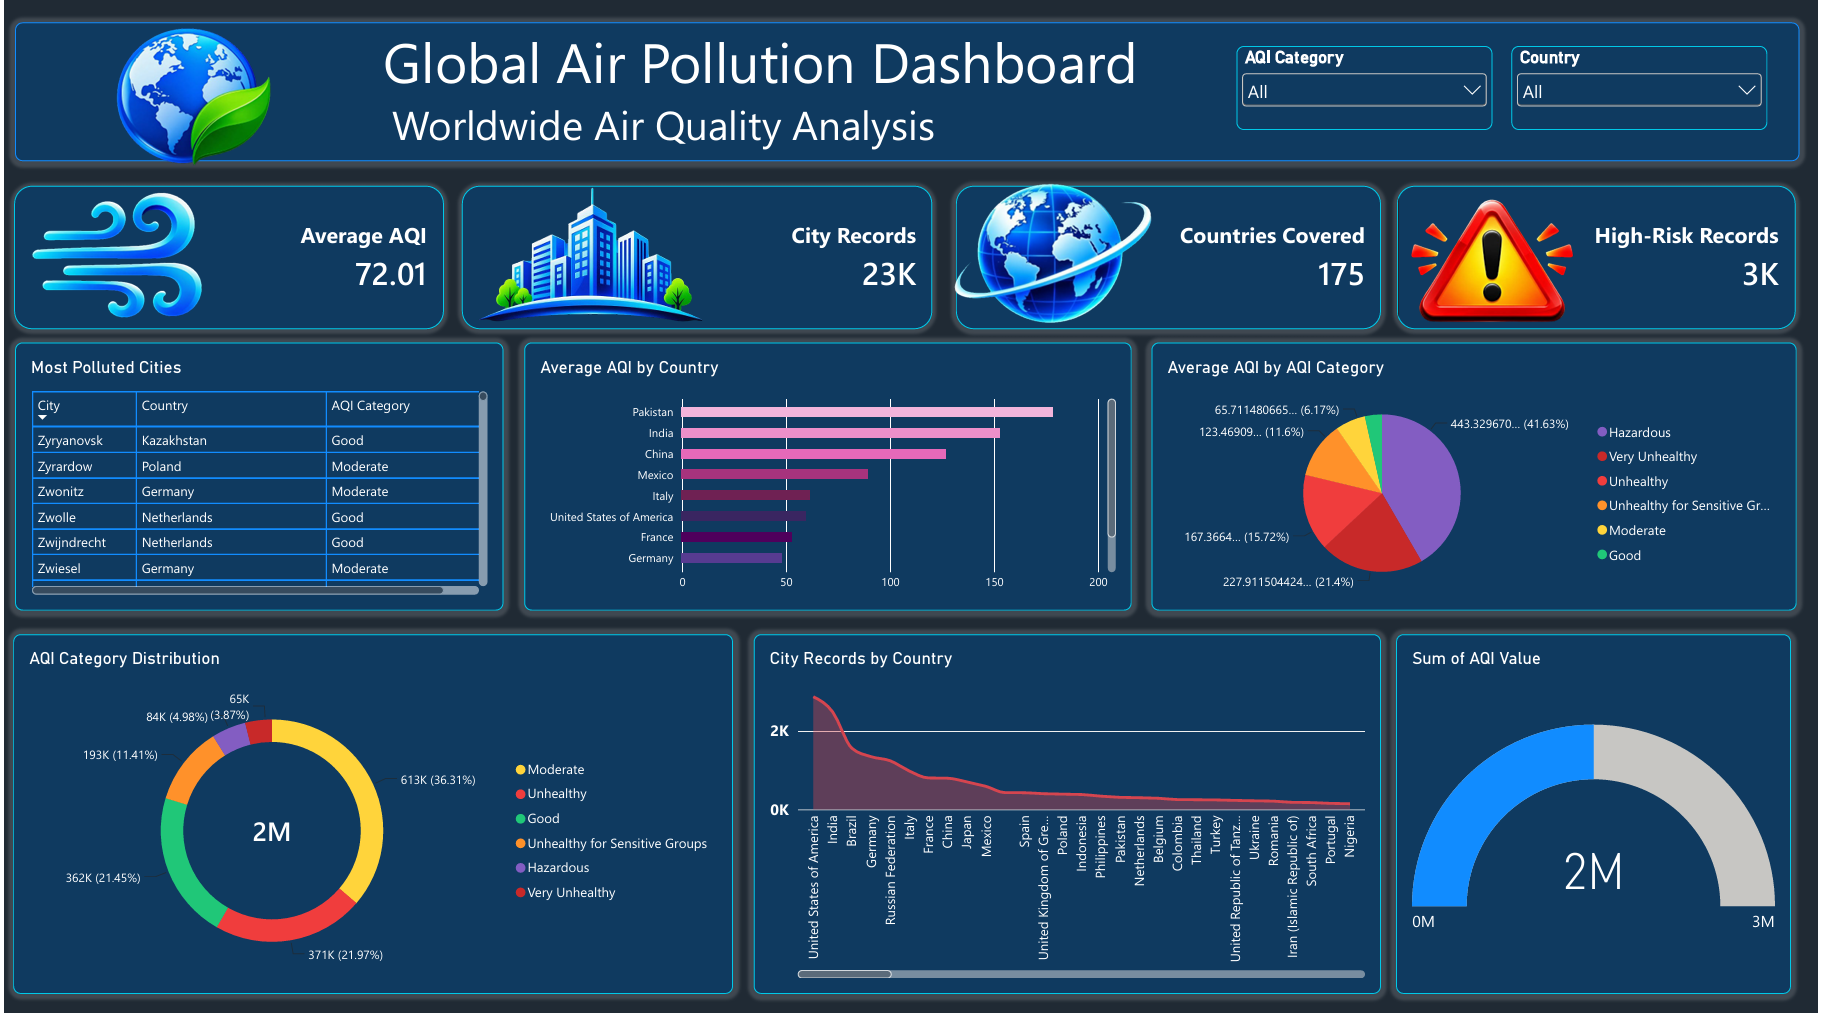

Layout of this report page (visuals, bound fields, positions):
{"tool":"powerbi","page":{"name":"Page 1","canvas":[1920,1080],"ordinal":0},"visuals":[{"type":"textbox","box":[10.7,23.2,1889.3,146.4],"z":0},{"type":"cardVisual","fields":{"Data":["global_air_pollution_dataset.Average AQI"]},"box":[10.3,195.5,454.9,152.3],"z":1000},{"type":"cardVisual","fields":{"Data":["global_air_pollution_dataset.City Records"]},"box":[483.7,195.5,498.1,152.3],"z":2000},{"type":"cardVisual","fields":{"Data":["global_air_pollution_dataset.Countries Covered"]},"box":[1006.5,195.5,450.8,152.3],"z":3000},{"type":"cardVisual","fields":{"Data":["global_air_pollution_dataset.High-Risk Records"]},"box":[1473.8,195.5,422,152.3],"z":4000},{"type":"slicer","fields":{"Values":["global_air_pollution_dataset.Country"]},"box":[1594.6,48.2,271.4,88.7],"z":5000},{"type":"slicer","fields":{"Values":["global_air_pollution_dataset.AQI Category"]},"box":[1303.6,48.2,271.7,88.5],"z":6000},{"type":"donutChart","title":"AQI Category Distribution","fields":{"Category":["global_air_pollution_dataset.AQI Category"],"Y":["Sum(global_air_pollution_dataset.AQI Value)"]},"box":[8.9,671.4,762.5,380.4],"z":7000},{"type":"pieChart","fields":{"Category":["global_air_pollution_dataset.AQI Category"],"Y":["global_air_pollution_dataset.Average AQI"]},"box":[1214.3,361.9,682.2,284.1],"z":8000},{"type":"barChart","fields":{"Category":["global_air_pollution_dataset.Country"],"Y":["global_air_pollution_dataset.Average AQI"]},"box":[550.1,361.9,642.4,284.1],"z":9000},{"type":"tableEx","title":"Most Polluted Cities","fields":{"Values":["global_air_pollution_dataset.City","global_air_pollution_dataset.Country","global_air_pollution_dataset.AQI Category"]},"box":[10.9,361.9,517.6,284.1],"z":10000},{"type":"areaChart","fields":{"Category":["global_air_pollution_dataset.Country"],"Y":["global_air_pollution_dataset.City Records"]},"box":[792.9,671.4,664.3,380.4],"z":11000},{"type":"gauge","fields":{"Y":["Sum(global_air_pollution_dataset.AQI Value)"]},"box":[1473.2,671.4,417.9,380.4],"z":12000},{"type":"image","box":[981.8,168.8,251.1,205.8],"z":13000},{"type":"image","box":[0,137.9,238.8,267.6],"z":14000},{"type":"image","box":[471.4,183.2,300.5,179.1],"z":15000},{"type":"image","box":[0,23.5,392.7,159.3],"z":16000},{"type":"image","box":[1457.3,197.6,234.6,164.7],"z":17000}]}

Visuals, with their boxes in screenshot pixels (x1, y1, x2, y2), scaled from the page's 1920x1080 canvas onto the 1822x1013 screenshot:
textbox: 10:22:1803:159
cardVisual - global_air_pollution_dataset.Average AQI: 10:183:441:326
cardVisual - global_air_pollution_dataset.City Records: 459:183:932:326
cardVisual - global_air_pollution_dataset.Countries Covered: 955:183:1383:326
cardVisual - global_air_pollution_dataset.High-Risk Records: 1399:183:1799:326
slicer - global_air_pollution_dataset.Country: 1513:45:1771:128
slicer - global_air_pollution_dataset.AQI Category: 1237:45:1495:128
"AQI Category Distribution" donutChart: 8:630:732:987
pieChart - global_air_pollution_dataset.AQI Category x global_air_pollution_dataset.Average AQI: 1152:339:1800:606
barChart - global_air_pollution_dataset.Country x global_air_pollution_dataset.Average AQI: 522:339:1132:606
"Most Polluted Cities" tableEx: 10:339:502:606
areaChart - global_air_pollution_dataset.Country x global_air_pollution_dataset.City Records: 752:630:1383:987
gauge - Sum(global_air_pollution_dataset.AQI Value): 1398:630:1795:987
image: 932:158:1170:351
image: 0:129:227:380
image: 447:172:733:340
image: 0:22:373:171
image: 1383:185:1606:340
